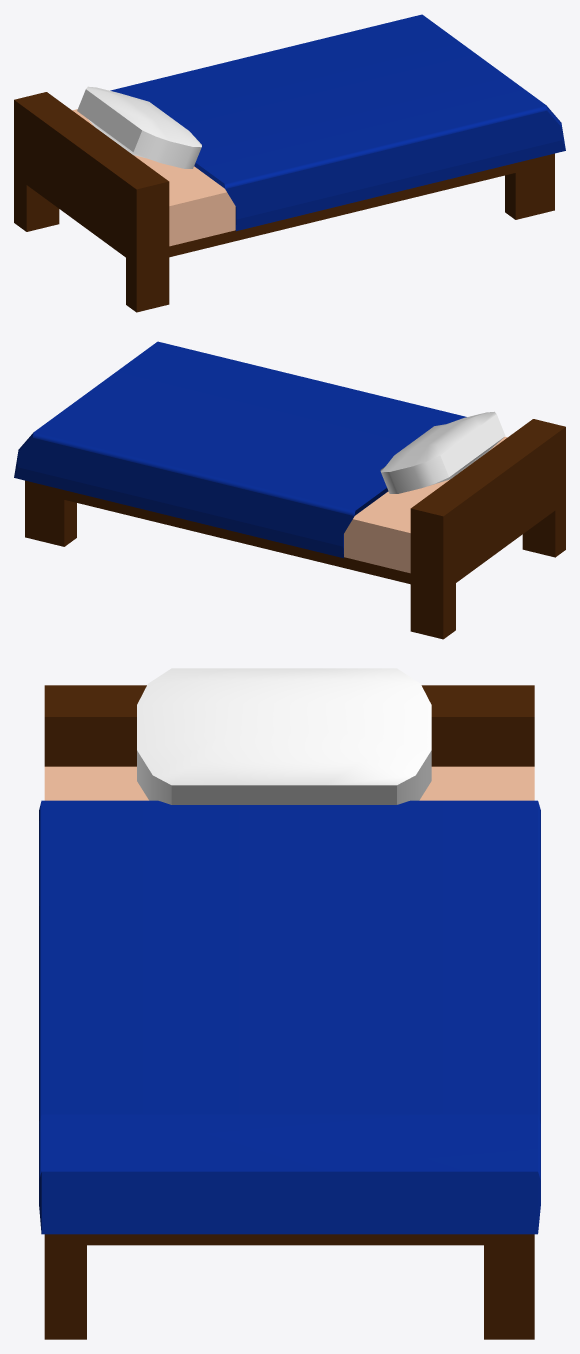
Rendered from Servantbed.fbx.
3 views of the same model, one above another, from view 1: azimuth 30°, elevation 25°; view 2: azimuth 150°, elevation 25°; view 3: azimuth 270°, elevation 25° (orthographic). The views are drawn at different scales.
Visible parts, largest first — view 1: pCube5; view 2: pCube5; view 3: pCube5.
Part boxes in pixels (<box>): pCube5: <box>14,14,565,312</box>; pCube5: <box>14,341,565,639</box>; pCube5: <box>39,668,540,1339</box>.
Bounding box in the file's own units: 13.11 × 4.39 × 6.65.
